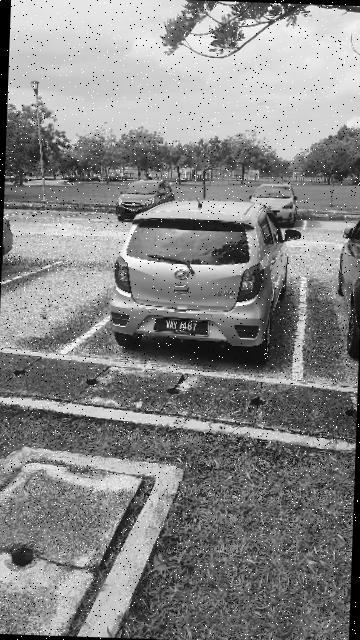License_Plate: (154, 317, 214, 338)
car: (103, 191, 307, 365)
